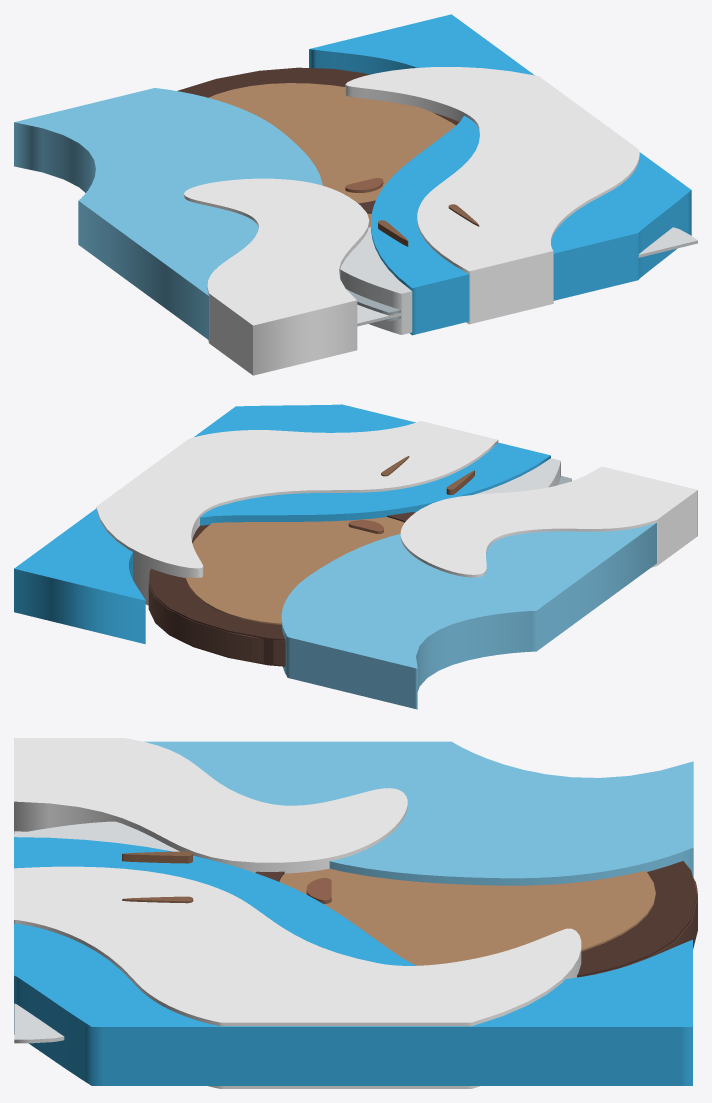
The model's file is emoji_u1f9d6_1f3fd_200d_2642.glb.
3 renders of one model, top to bottom at view 1: azimuth 30°, elevation 25°; view 2: azimuth 150°, elevation 25°; view 3: azimuth 270°, elevation 25°, orthographic. The views are drawn at different scales.
Parts seen in each view (by area): view 1: emoji_u1f9d6_1f3fd_200d_2642; view 2: emoji_u1f9d6_1f3fd_200d_2642; view 3: emoji_u1f9d6_1f3fd_200d_2642.
Boxes of the visible parts, bbox=[...] form: emoji_u1f9d6_1f3fd_200d_2642: bbox=[14, 14, 697, 375]; emoji_u1f9d6_1f3fd_200d_2642: bbox=[14, 404, 697, 709]; emoji_u1f9d6_1f3fd_200d_2642: bbox=[14, 738, 697, 1088].
Bounding box in the file's own units: 0.0334 × 0.004 × 0.0336.
